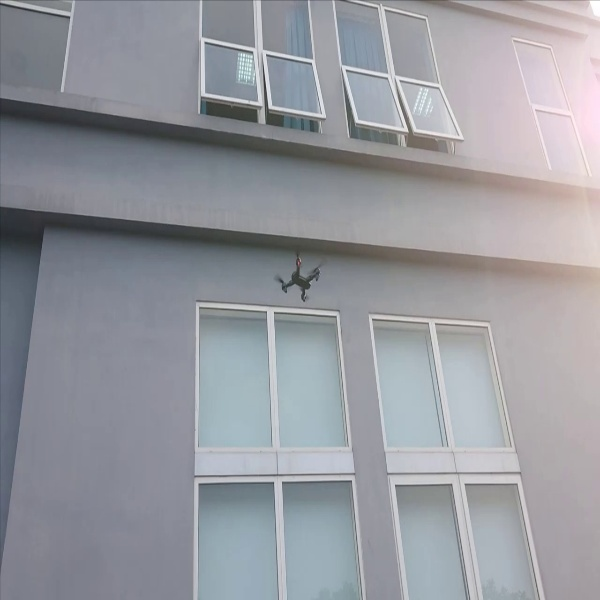drone: (273, 246, 334, 307)
